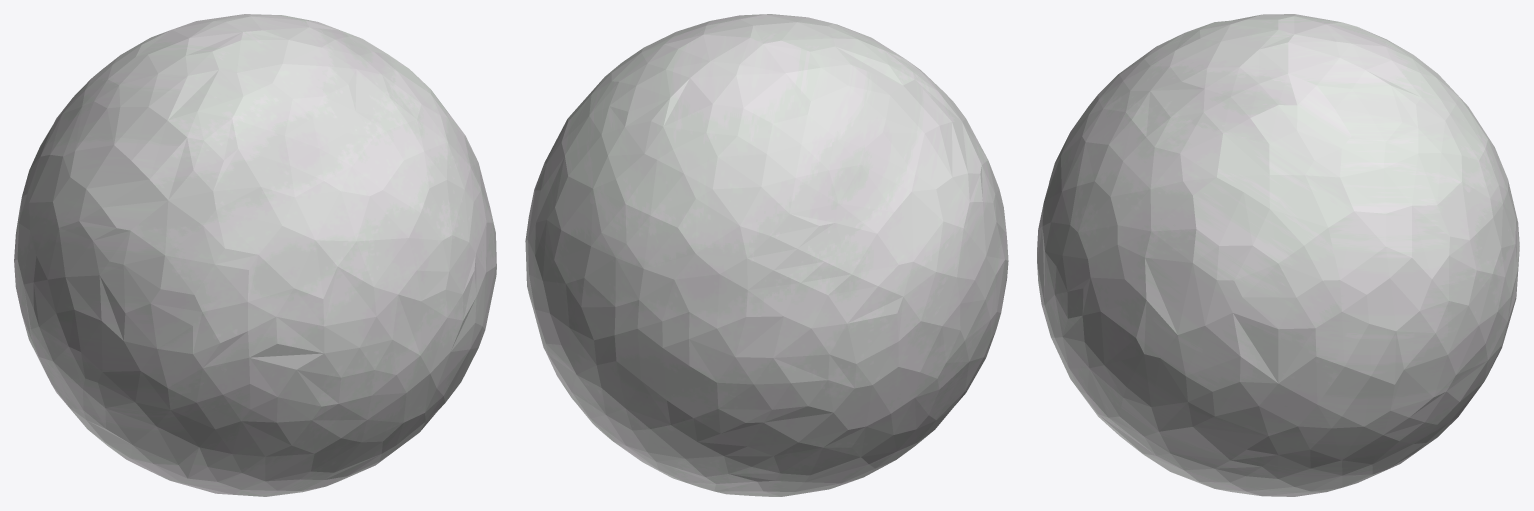
The model's file is Shield00.fbx.
3 views of the same model, side by side, from view 1: azimuth 30°, elevation 25°; view 2: azimuth 150°, elevation 25°; view 3: azimuth 270°, elevation 25° (orthographic).
Parts seen in each view (by area): view 1: node_id7, node_id4; view 2: node_id7, node_id4; view 3: node_id7, node_id4.
Part boxes in pixels (x1,y1,x2,y2): node_id7: [14, 14, 496, 357]; node_id4: [14, 252, 496, 496]; node_id7: [525, 14, 1008, 357]; node_id4: [526, 257, 1008, 496]; node_id7: [1037, 14, 1519, 356]; node_id4: [1037, 247, 1518, 496].
Bounding box in the file's own units: 0.5116 × 0.512 × 0.5128.
Materials: 4 (2 with a texture image).
